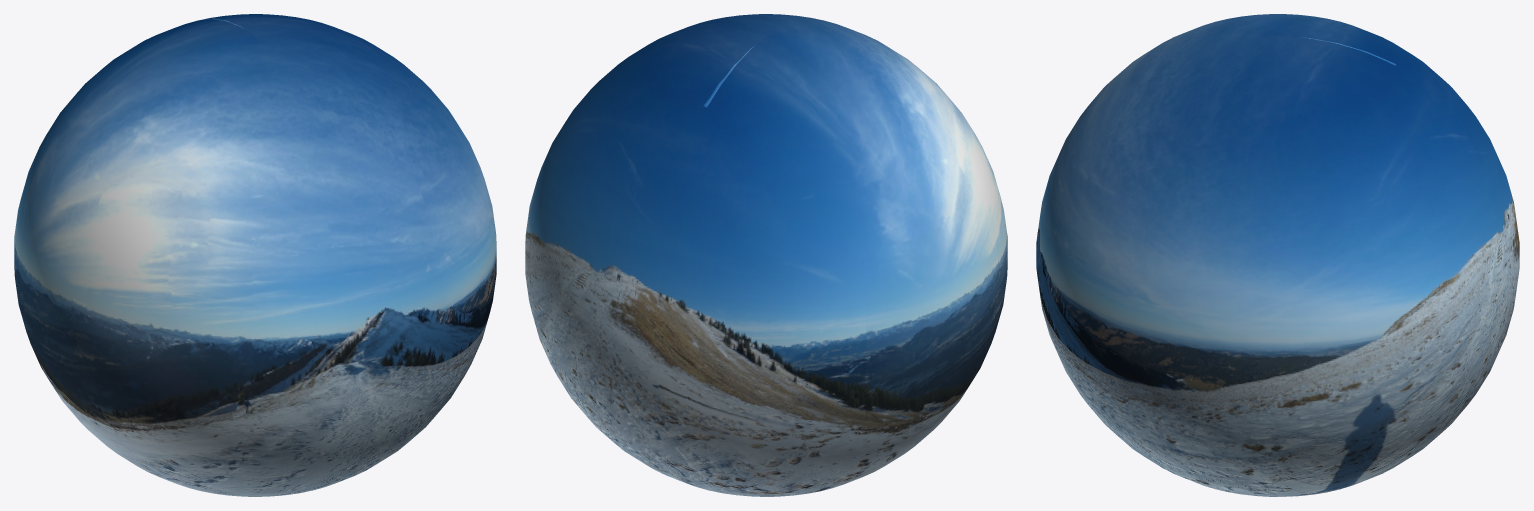
File: esfera.fbx
3 views of the same model, side by side, from view 1: azimuth 30°, elevation 25°; view 2: azimuth 150°, elevation 25°; view 3: azimuth 270°, elevation 25° (orthographic).
Visible parts, largest first — view 1: Sphere001; view 2: Sphere001; view 3: Sphere001.
Part boxes in pixels (box(x1,y1,x2,y2)): Sphere001: box(14, 14, 496, 496); Sphere001: box(525, 14, 1007, 496); Sphere001: box(1036, 14, 1519, 496).
Size of the model in its own units: 582 by 584 by 583.
1 material, 1 textured.
